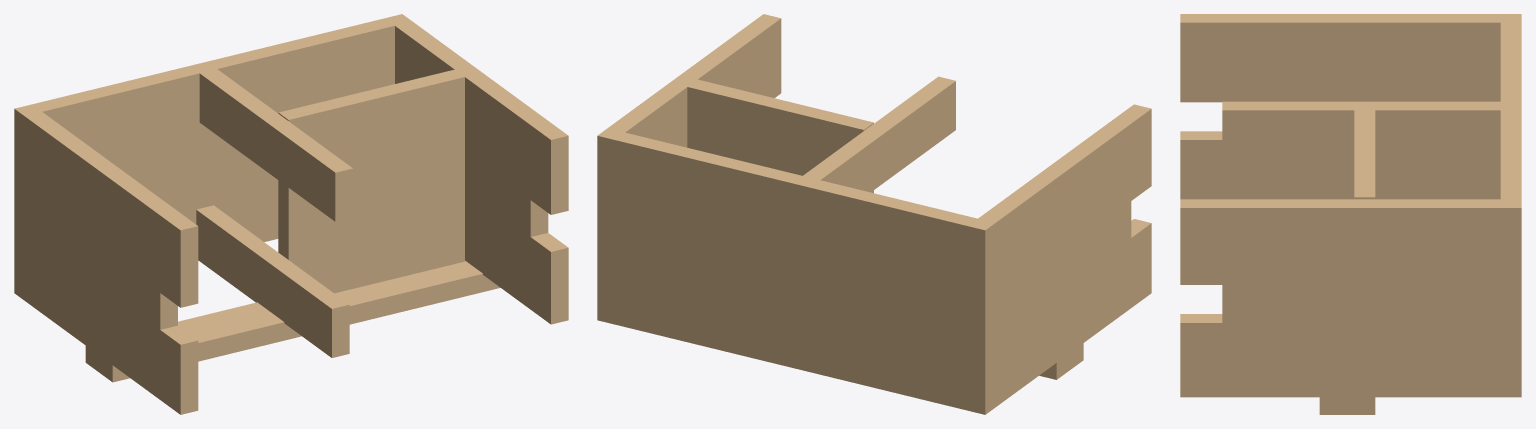
Rendered from tinker.obj.
The picture shows the model from 3 angles, left to right: view 1: azimuth 30°, elevation 25°; view 2: azimuth 150°, elevation 25°; view 3: azimuth 270°, elevation 25°; orthographic projection. The views are drawn at different scales.
Parts seen in each view (by area): view 1: obj_0; view 2: obj_0; view 3: obj_0.
Boxes of the visible parts, x1,y1,x2,y2 form: obj_0: (14,14,568,414); obj_0: (597,14,1151,414); obj_0: (1180,14,1521,414).
Bounding box in the file's own units: 330 × 165 × 245.
